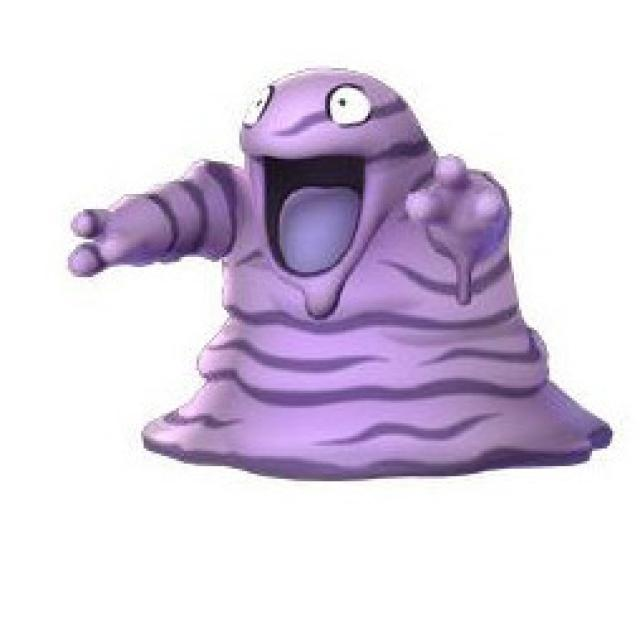Grimer: (139, 63, 554, 463)
